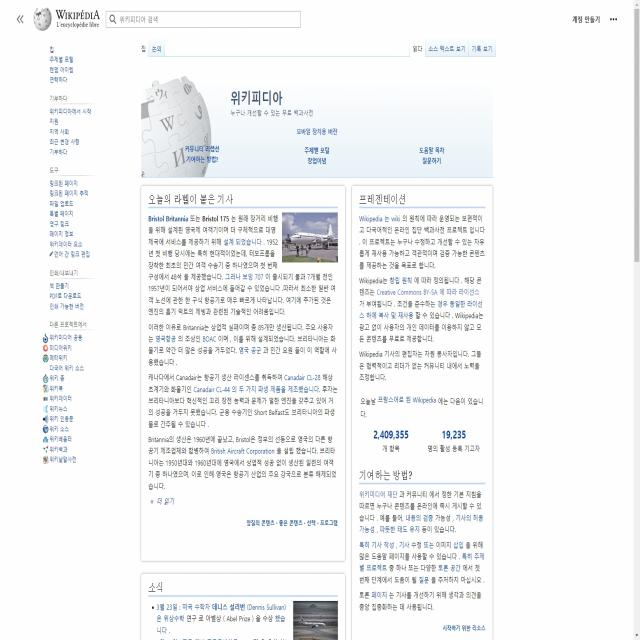search: (103, 6, 302, 30)
side-panel: (37, 37, 100, 471)
